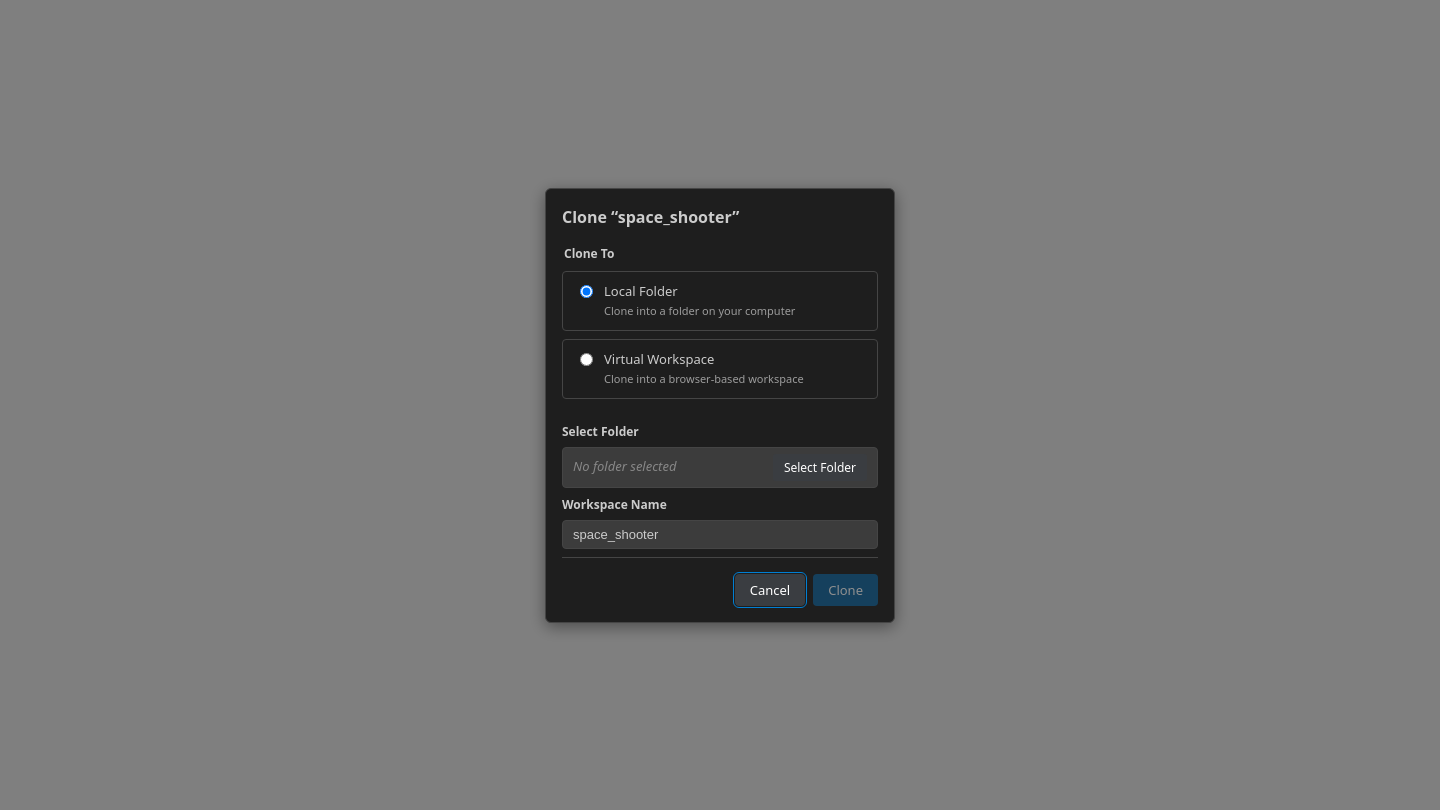
Test: CloneProjectDialog › form validation › disables clone button when name is empty
Click the radio button labelled "Virtual Workspace Clone into a browser-based workspace". click: click(586, 359)
box: [580,352,593,366]
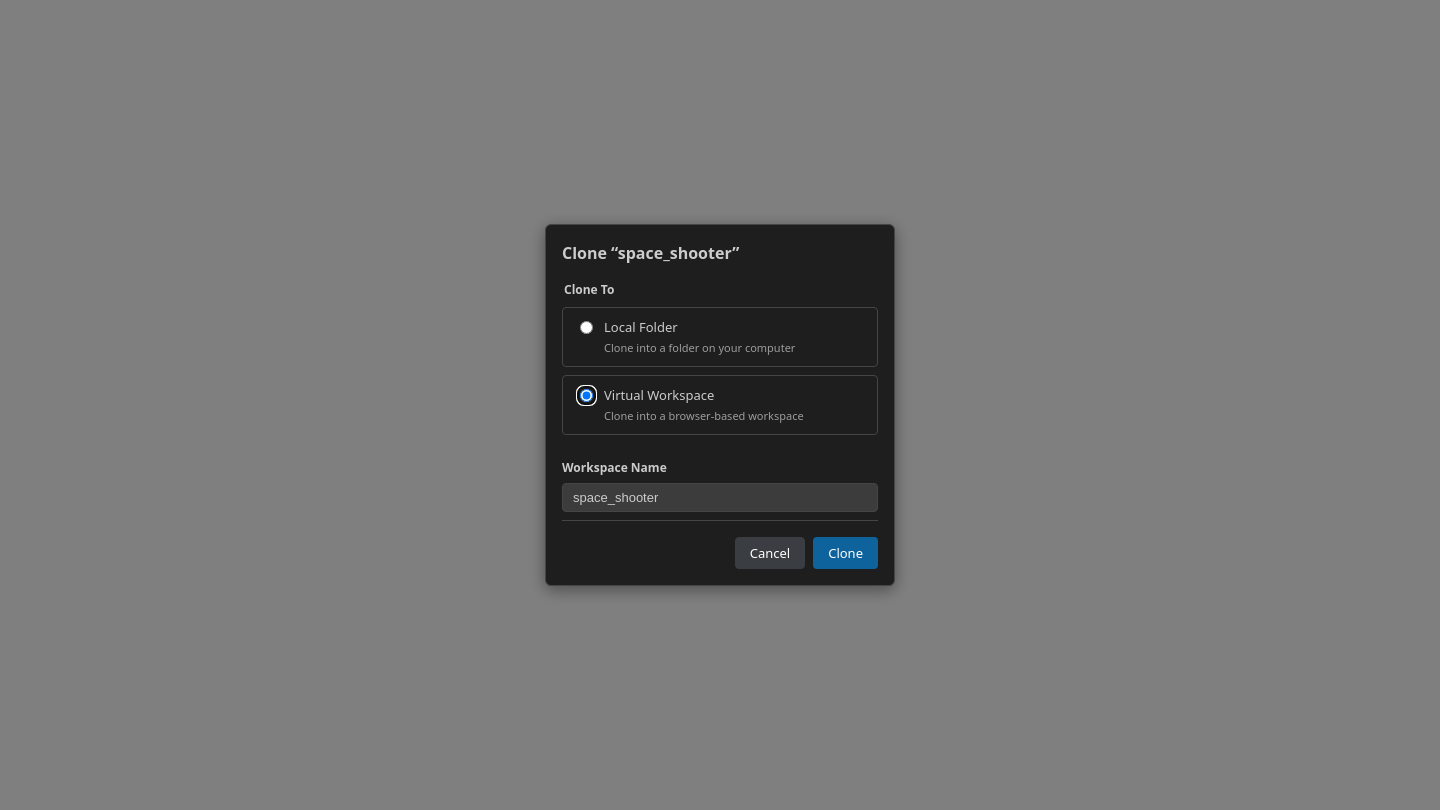
Clear the field labelled "Workspace Name". click: (720, 498)
box: [562,483,878,512]
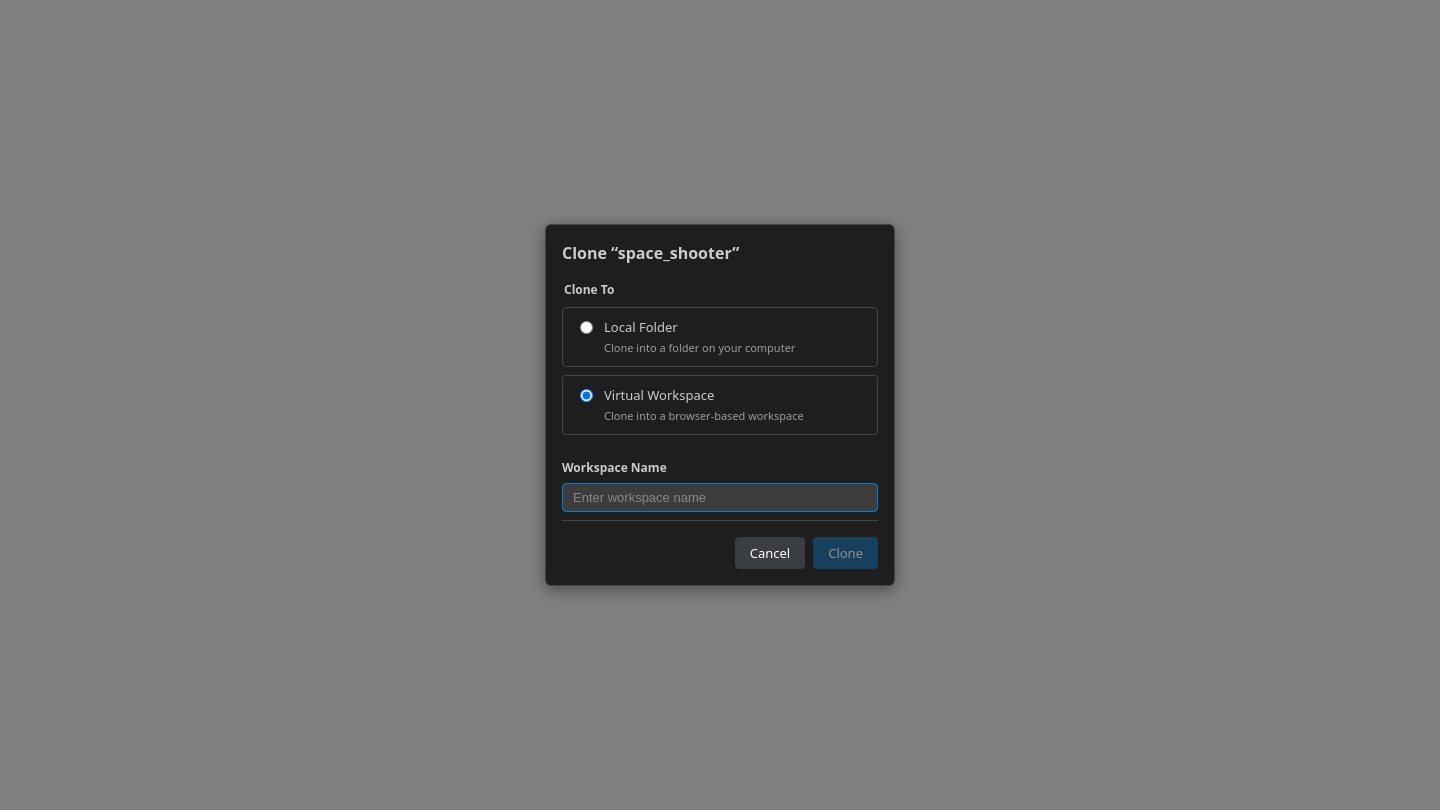
expect the button "Clone" is disabled: met, box [813,537,878,569]
